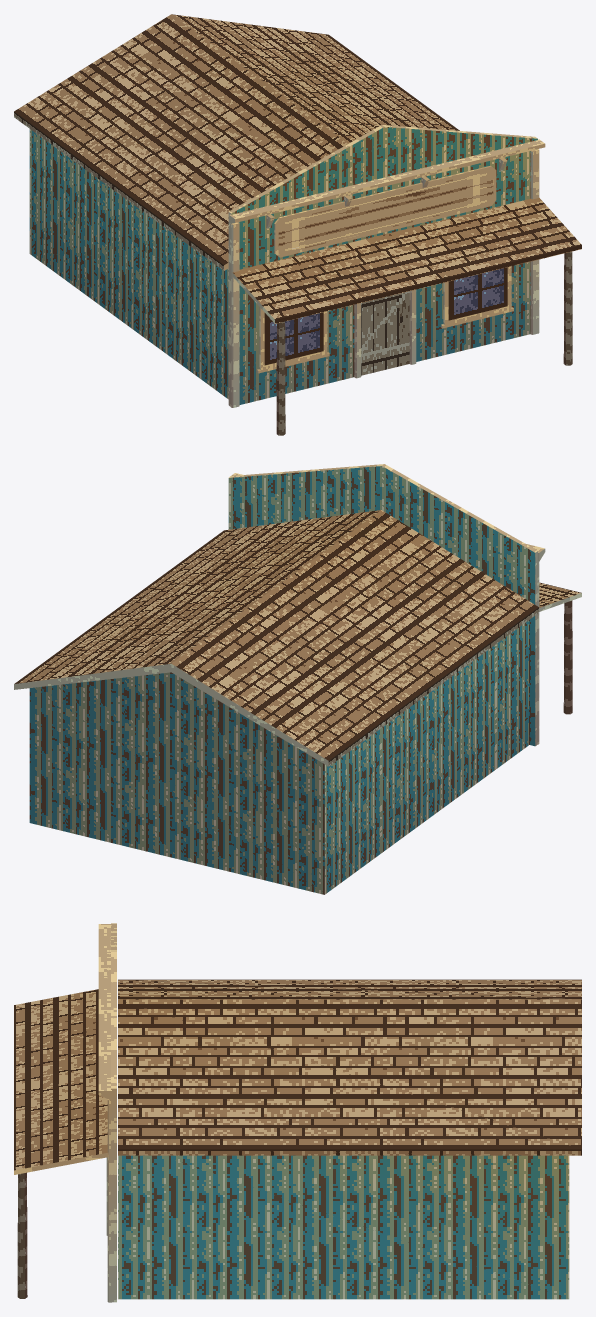
Rendered from wtown.store__battens.glb.
3 renders of one model, top to bottom at view 1: azimuth 30°, elevation 25°; view 2: azimuth 150°, elevation 25°; view 3: azimuth 270°, elevation 25°, orthographic. The views are drawn at different scales.
Parts seen in each view (by area): view 1: kit_roof, kit_front, kit_body, kit_porch, kit_card_panes, kit_trim, kit_windows; view 2: kit_body, kit_roof, kit_front, kit_porch, kit_trim; view 3: kit_roof, kit_body, kit_porch, kit_trim, kit_front.
Boxes of the visible parts, x1,y1,x2,y2 form: kit_roof: [14, 14, 459, 270]; kit_front: [228, 125, 537, 405]; kit_body: [29, 129, 228, 399]; kit_porch: [232, 197, 581, 435]; kit_card_panes: [264, 169, 507, 375]; kit_trim: [229, 139, 545, 407]; kit_windows: [256, 266, 513, 373]; kit_body: [29, 620, 528, 894]; kit_roof: [14, 510, 538, 766]; kit_front: [228, 464, 537, 746]; kit_porch: [539, 582, 581, 714]; kit_trim: [230, 473, 545, 744]; kit_roof: [118, 979, 581, 1155]; kit_body: [118, 1155, 569, 1299]; kit_porch: [14, 989, 108, 1298]; kit_trim: [98, 924, 111, 1302]; kit_front: [111, 923, 116, 1302].
Bounding box in the file's own units: 8 × 5.9 × 11.32.
Materials: 7 (7 with a texture image).
